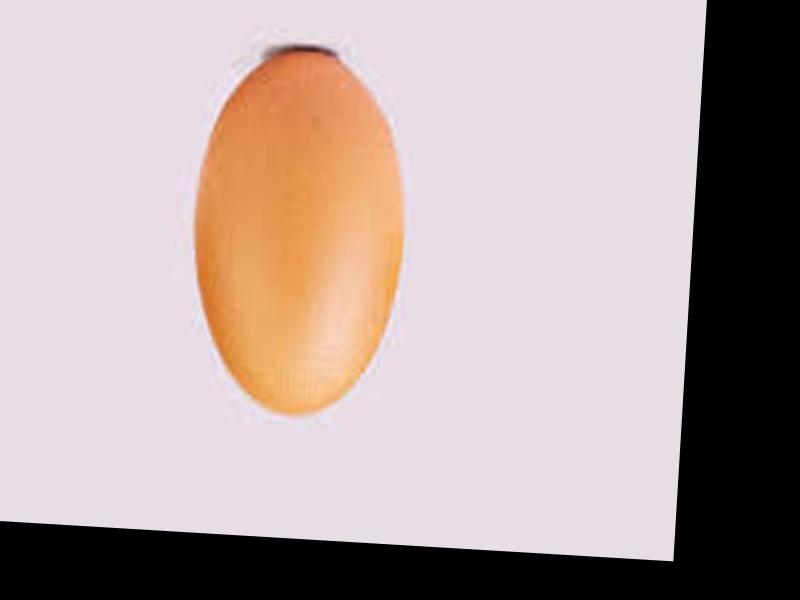Eggs: (185, 41, 411, 427)
